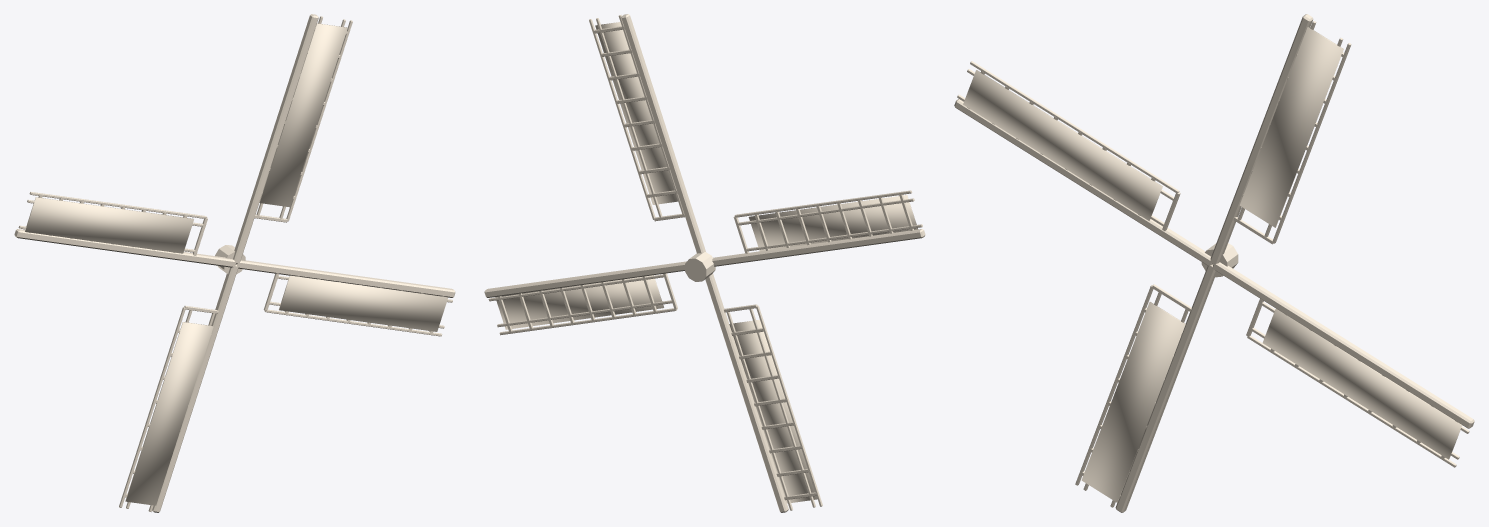
The model's file is SM_VK_Windmill_Sails.fbx.
The picture shows the model from 3 angles, left to right: view 1: azimuth 30°, elevation 25°; view 2: azimuth 150°, elevation 25°; view 3: azimuth 330°, elevation 25°; orthographic projection. The views are drawn at different scales.
Visible parts, largest first — view 1: SM_VK_Windmill_Sails.001; view 2: SM_VK_Windmill_Sails.001; view 3: SM_VK_Windmill_Sails.001.
Part boxes in pixels (x1=…): SM_VK_Windmill_Sails.001: x1=14, y1=14, x2=455, y2=512; SM_VK_Windmill_Sails.001: x1=484, y1=14, x2=925, y2=512; SM_VK_Windmill_Sails.001: x1=954, y1=14, x2=1474, y2=512.
Bounding box in the file's own units: 13.57 × 13.57 × 0.603.
